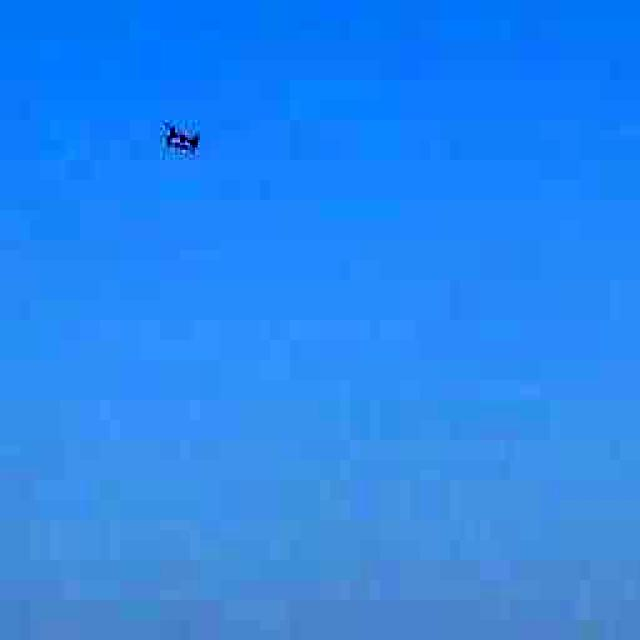bird: (149, 92, 214, 175)
